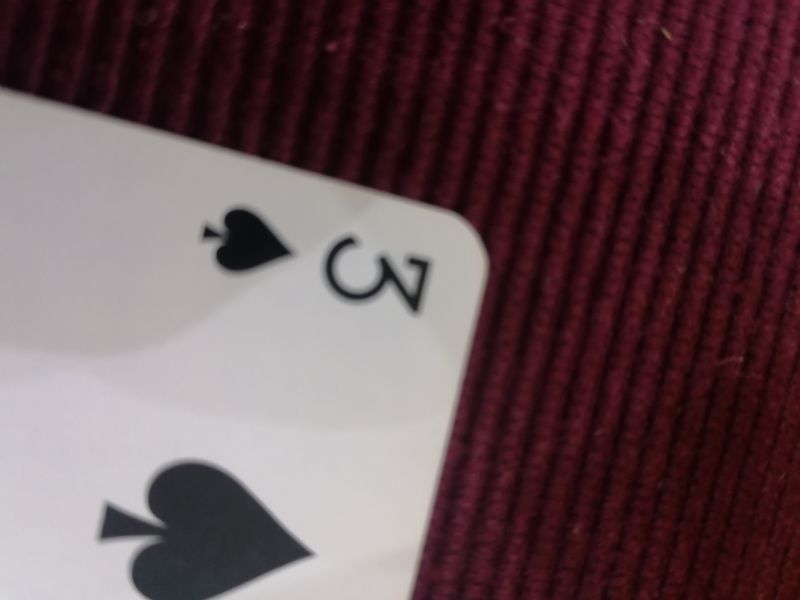3s: (196, 191, 438, 324)
